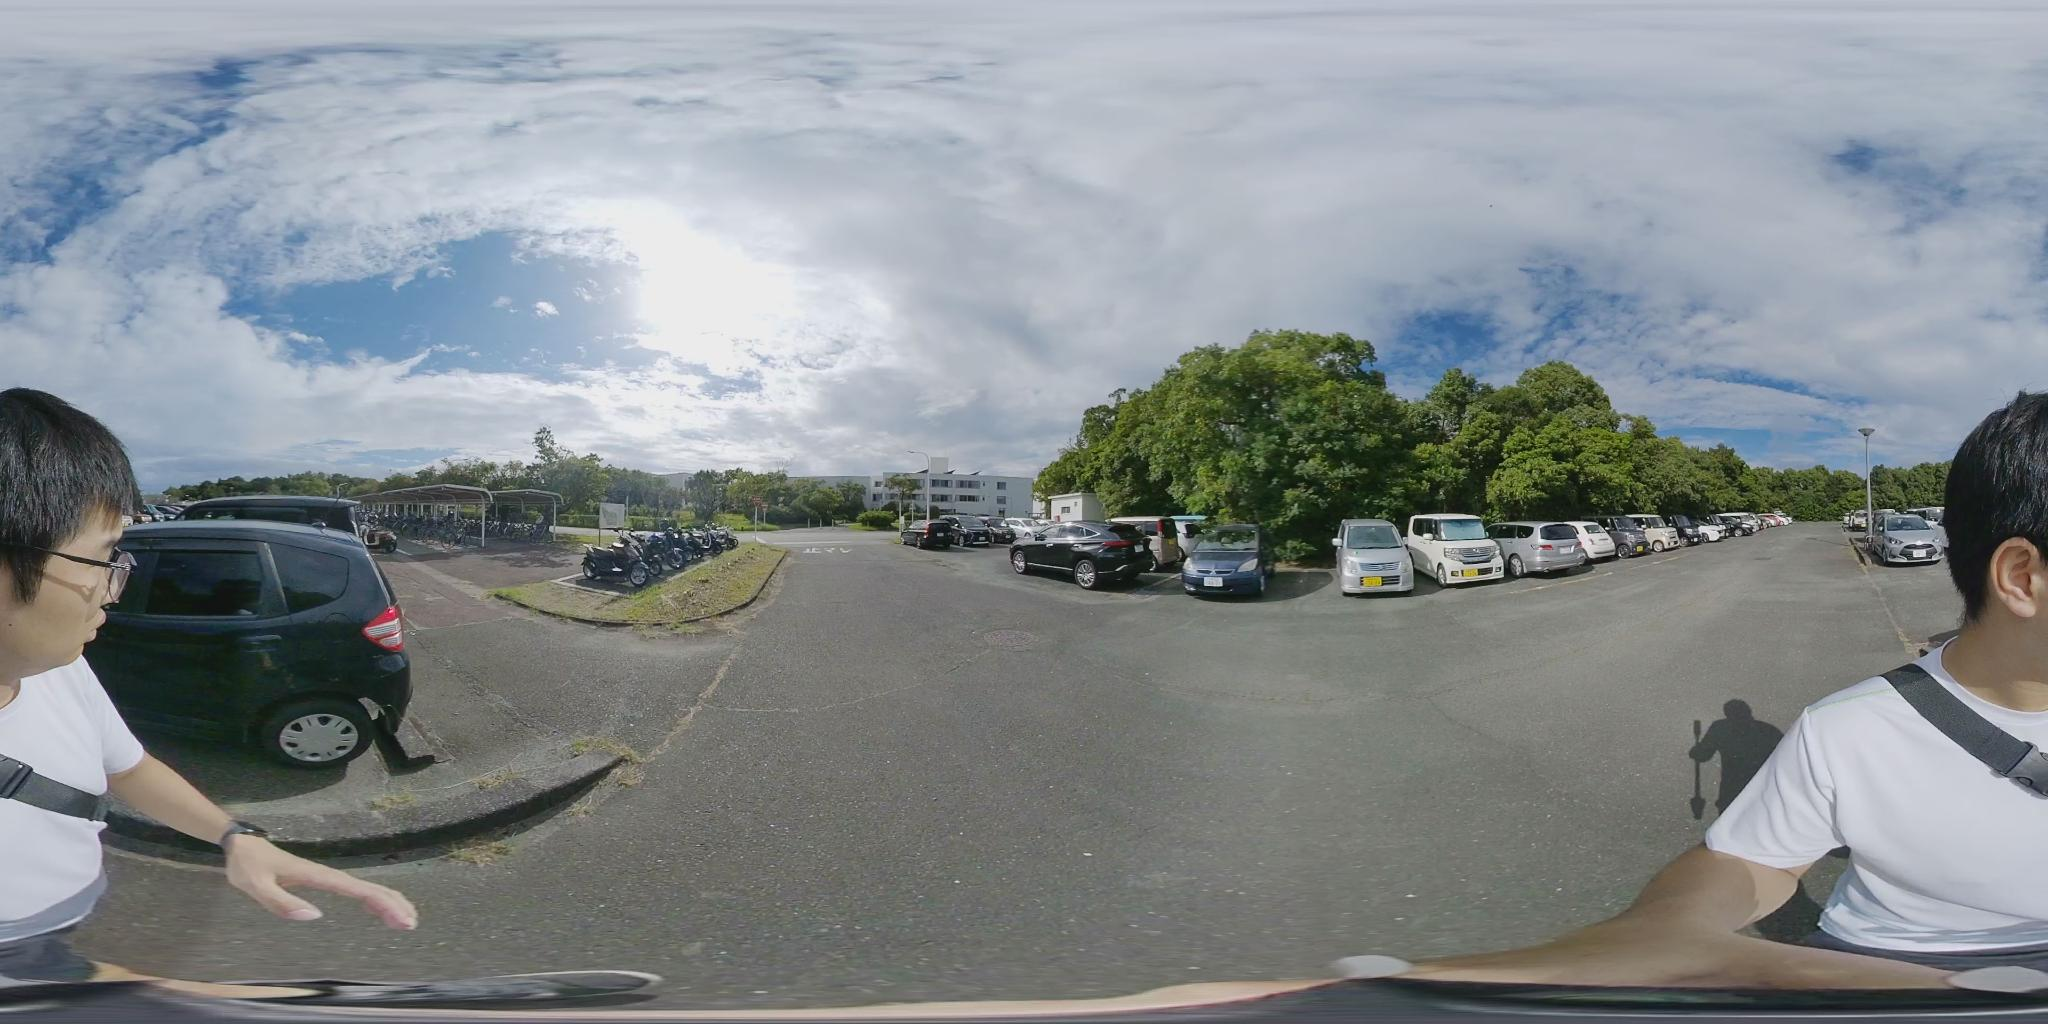car: (98, 515, 424, 772), (157, 492, 377, 555), (1007, 525, 1148, 589), (1182, 522, 1280, 601), (1337, 521, 1425, 597), (1501, 521, 1614, 573), (1855, 516, 1947, 566), (953, 520, 1017, 546), (1697, 519, 1758, 543)
